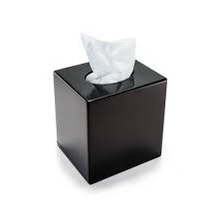plastic_box: (46, 52, 173, 189)
tissue: (70, 26, 141, 87)
